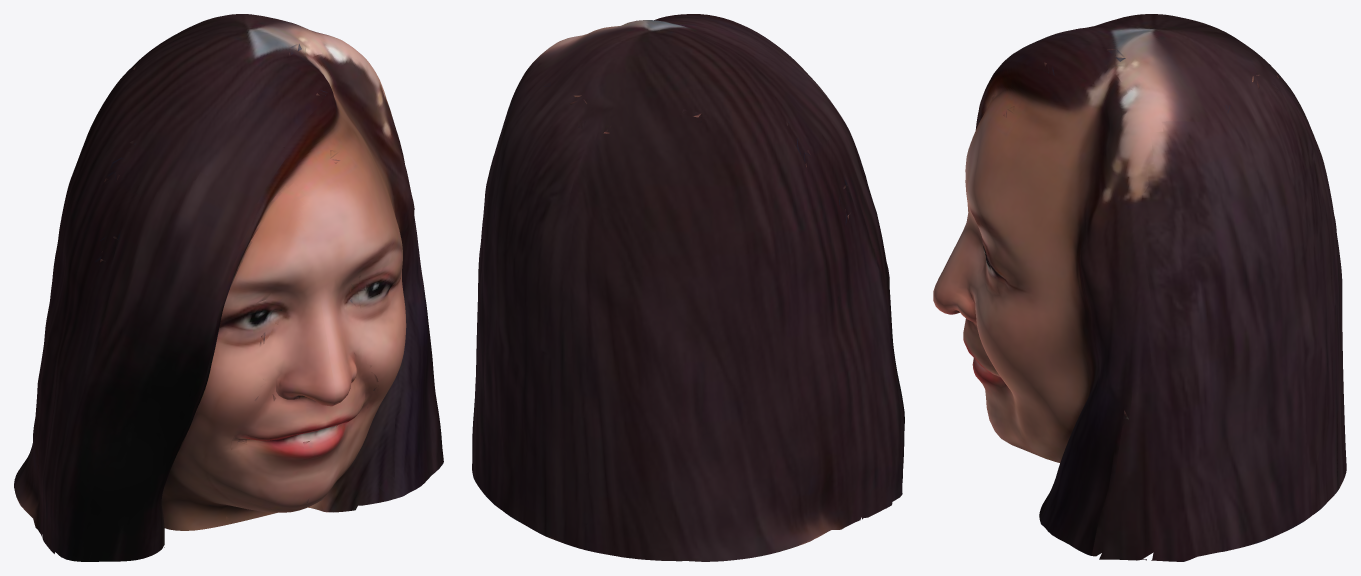
The picture shows the model from 3 angles, left to right: view 1: azimuth 30°, elevation 25°; view 2: azimuth 150°, elevation 25°; view 3: azimuth 270°, elevation 25°; orthographic projection. The views are drawn at different scales.
Visible parts, largest first — view 1: Ms.Uy; view 2: Ms.Uy; view 3: Ms.Uy.
Part boxes in pixels (x1=…): Ms.Uy: x1=14, y1=14, x2=443, y2=561; Ms.Uy: x1=472, y1=14, x2=904, y2=561; Ms.Uy: x1=933, y1=14, x2=1346, y2=561.
Bounding box in the file's own units: 5.23 × 5.91 × 4.87.
1 material, 1 textured.
